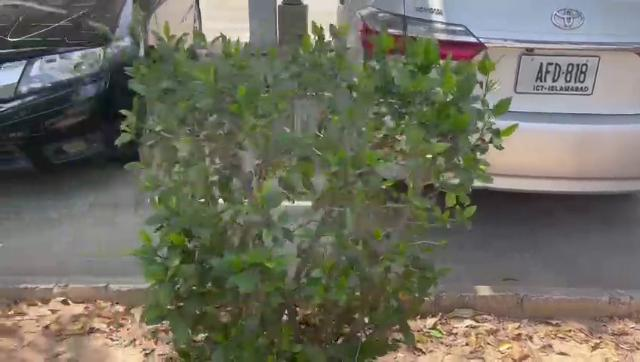plate: (514, 52, 606, 98)
